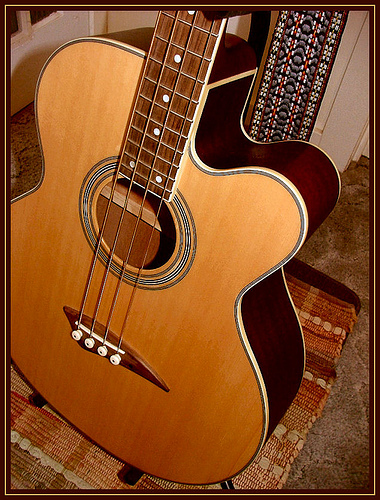guitar: (14, 9, 343, 490)
